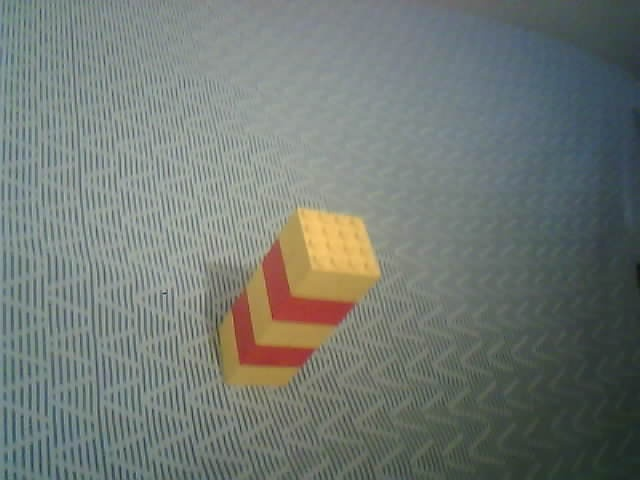lego: (216, 205, 383, 388)
